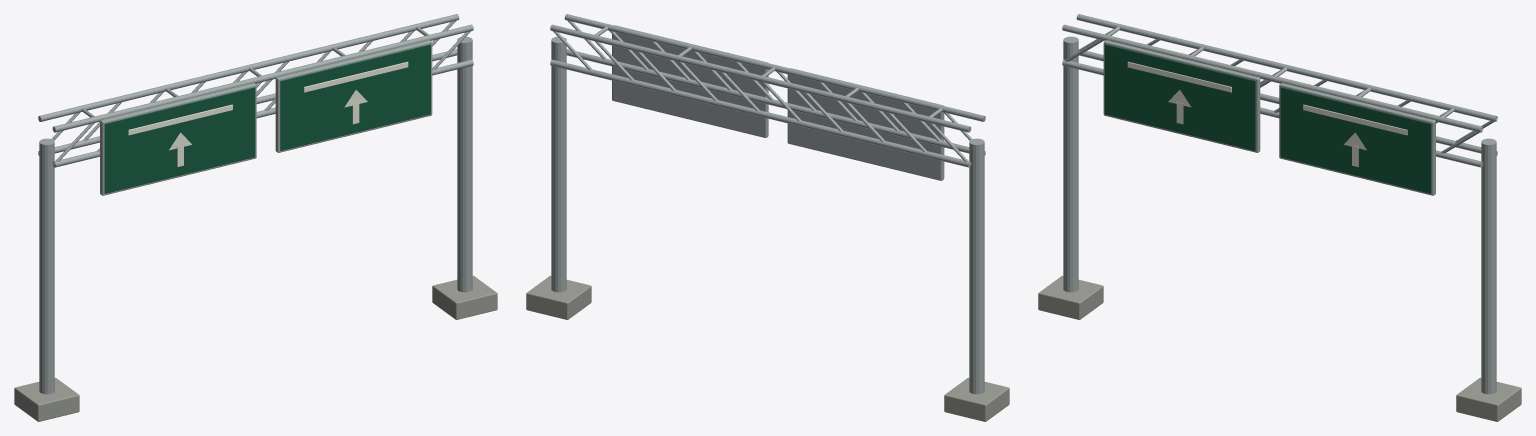
The model's file is road-direction-gantry.glb.
3 views of the same model, side by side, from view 1: azimuth 30°, elevation 25°; view 2: azimuth 150°, elevation 25°; view 3: azimuth 330°, elevation 25° (orthographic).
Parts seen in each view (by area): view 1: SIGN_Green_0, SIGN_Green_1, POST_-5, POST_5, TRUSS_Chord_0.3_6.5, TRUSS_Chord_-0.3_6.5, BASE_5, BASE_-5, SIGN_Back_1, SIGN_Back_0, TRUSS_Chord_-0.3_5.7, LABEL_Replaceable_0 (+2 smaller); view 2: SIGN_Back_0, SIGN_Back_1, POST_-5, POST_5, TRUSS_Chord_0.3_6.5, TRUSS_Chord_-0.3_6.5, TRUSS_Chord_0.3_5.7, TRUSS_Chord_-0.3_5.7, BASE_5, BASE_-5; view 3: SIGN_Green_1, SIGN_Green_0, POST_5, POST_-5, TRUSS_Chord_0.3_6.5, TRUSS_Chord_-0.3_6.5, BASE_-5, BASE_5, SIGN_Back_0, SIGN_Back_1, TRUSS_Chord_-0.3_5.7, LABEL_Replaceable_0 (+2 smaller).
Part boxes in pixels (x1,y1,x2,y2): SIGN_Green_0: (104,87,255,193); SIGN_Green_1: (280,44,430,150); POST_-5: (39,138,54,394); POST_5: (457,36,472,292); TRUSS_Chord_0.3_6.5: (38,14,459,121); TRUSS_Chord_-0.3_6.5: (52,24,473,132); BASE_5: (432,275,497,319); BASE_-5: (14,377,79,421); SIGN_Back_1: (275,40,432,152); SIGN_Back_0: (100,83,256,195); TRUSS_Chord_-0.3_5.7: (52,59,473,167); LABEL_Replaceable_0: (128,104,232,135); SIGN_Back_0: (787,68,944,180); SIGN_Back_1: (612,25,768,137); POST_-5: (969,138,984,394); POST_5: (551,36,566,292); TRUSS_Chord_0.3_6.5: (550,24,971,132); TRUSS_Chord_-0.3_6.5: (564,14,985,121); TRUSS_Chord_0.3_5.7: (550,59,971,167); TRUSS_Chord_-0.3_5.7: (566,49,985,155); BASE_5: (526,275,591,319); BASE_-5: (944,377,1009,421); SIGN_Green_1: (1280,87,1431,193); SIGN_Green_0: (1105,44,1255,150); POST_5: (1481,138,1496,394); POST_-5: (1063,36,1078,292); TRUSS_Chord_0.3_6.5: (1076,14,1497,121); TRUSS_Chord_-0.3_6.5: (1062,24,1483,132); BASE_-5: (1038,275,1103,319); BASE_5: (1456,377,1521,421); SIGN_Back_0: (1103,40,1260,152); SIGN_Back_1: (1279,83,1435,195); TRUSS_Chord_-0.3_5.7: (1062,59,1483,167); LABEL_Replaceable_0: (1127,61,1231,92).
Bounding box in the file's own units: 11 × 6.57 × 1.02.
